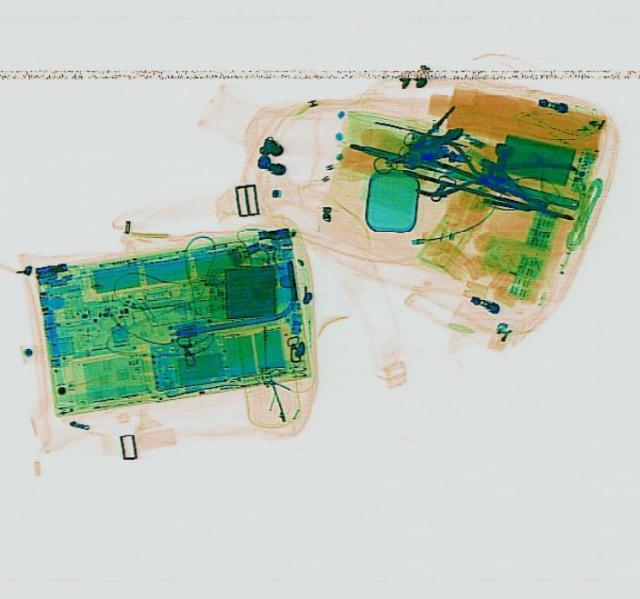Pliers: (468, 136, 594, 222), (410, 133, 518, 210)
